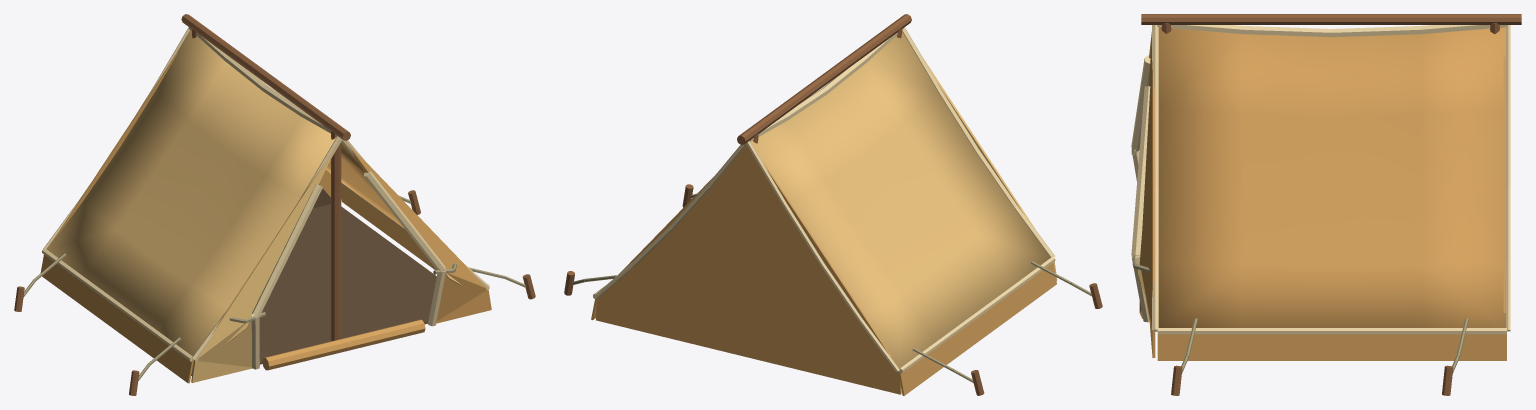
File: AlderTent.fbx
3 renders of one model, left to right at view 1: azimuth 30°, elevation 25°; view 2: azimuth 150°, elevation 25°; view 3: azimuth 270°, elevation 25°, orthographic. The views are drawn at different scales.
Visible parts, largest first — view 1: AlderTent; view 2: AlderTent; view 3: AlderTent.
Part boxes in pixels (<box>): AlderTent: <box>14,14,535,395</box>; AlderTent: <box>564,14,1102,395</box>; AlderTent: <box>1131,14,1521,395</box>.
Bounding box in the file's own units: 374 × 199 × 264.
